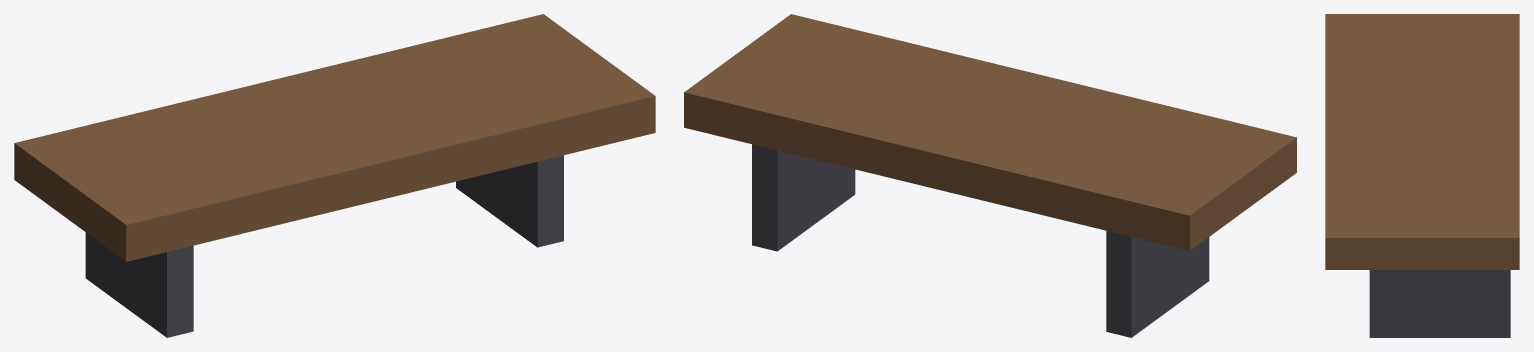
Rendered from SM_P0_Wall_Shelf_B.obj.
The picture shows the model from 3 angles, left to right: view 1: azimuth 30°, elevation 25°; view 2: azimuth 150°, elevation 25°; view 3: azimuth 270°, elevation 25°; orthographic projection. The views are drawn at different scales.
Parts seen in each view (by area): view 1: shelf_board, bracket_l, bracket_r; view 2: shelf_board, bracket_l, bracket_r; view 3: shelf_board, bracket_r.
Boxes of the visible parts, <box> form: shelf_board: <box>14,14,655,261</box>; bracket_l: <box>85,232,193,337</box>; bracket_r: <box>456,155,563,247</box>; shelf_board: <box>684,14,1296,250</box>; bracket_l: <box>1106,231,1209,337</box>; bracket_r: <box>752,144,855,251</box>; shelf_board: <box>1325,14,1519,269</box>; bracket_r: <box>1369,270,1510,337</box>.
Size of the model in its own units: 0.6 by 0.16 by 0.22.
